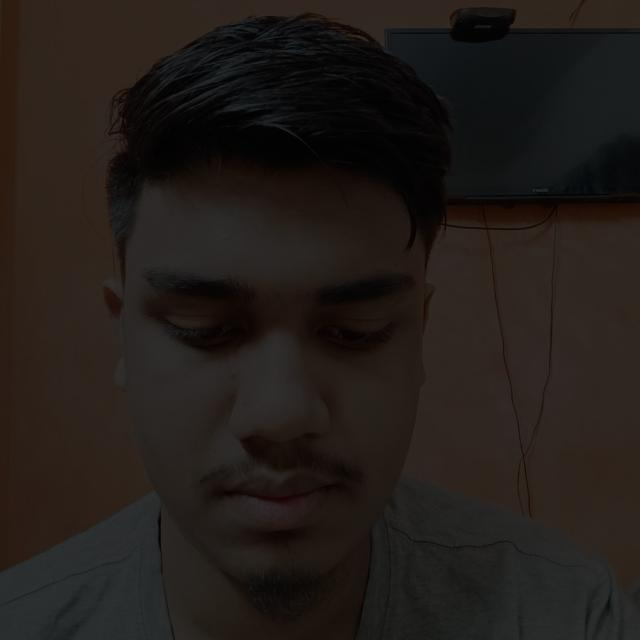Sad: (59, 73, 444, 609)
